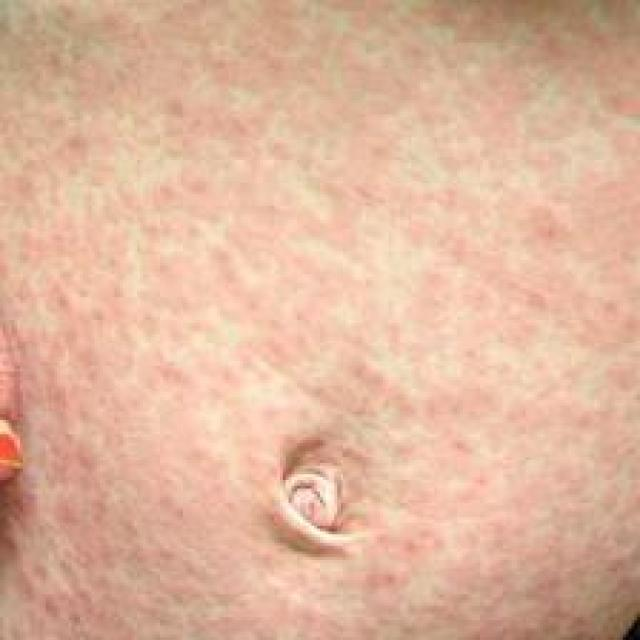others: (0, 3, 635, 639)
